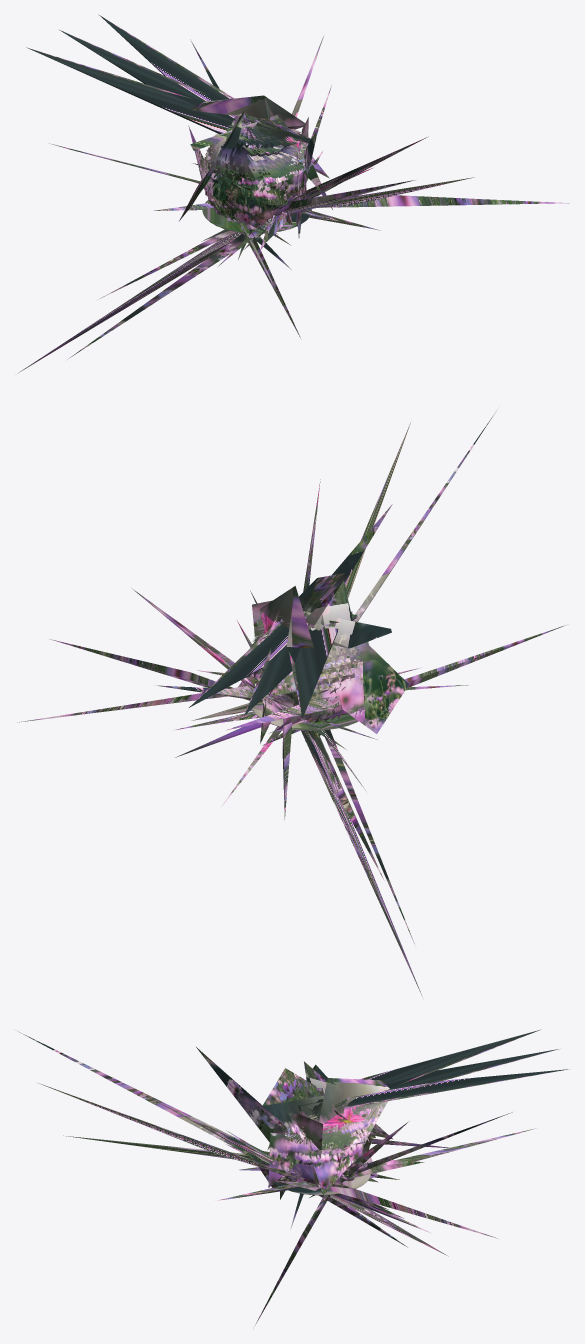
File: flor4.gltf
3 views of the same model, one above another, from view 1: azimuth 30°, elevation 25°; view 2: azimuth 150°, elevation 25°; view 3: azimuth 270°, elevation 25° (orthographic). The views are drawn at different scales.
Parts seen in each view (by area): view 1: Sphere; view 2: Sphere; view 3: Sphere.
Part boxes in pixels (box(x1,y1,x2,y2)): Sphere: box(19, 14, 569, 372); Sphere: box(17, 410, 568, 996); Sphere: box(16, 1029, 568, 1326).
Size of the model in its own units: 11.34 by 7.92 by 13.19.
1 material, 1 textured.
